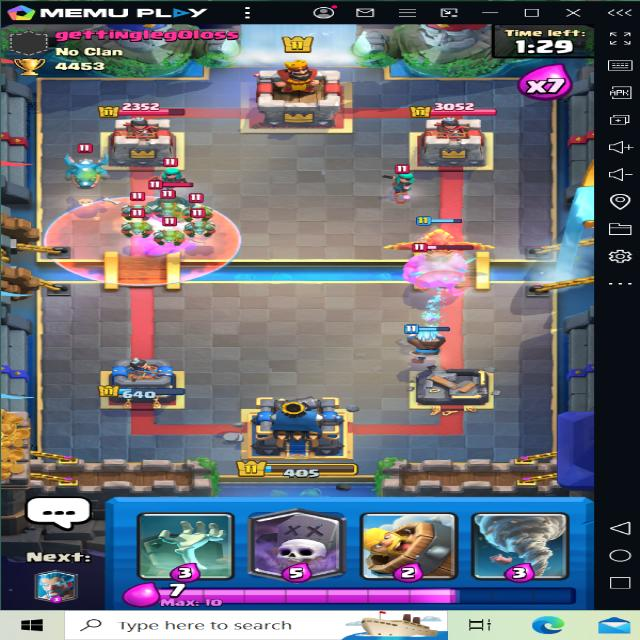Bowler: (402, 236, 476, 288)
Edragon: (56, 140, 121, 190)
Minions: (183, 194, 221, 220), (182, 216, 223, 237), (120, 196, 158, 216), (150, 220, 184, 242), (154, 194, 184, 218), (120, 213, 150, 236)
Rascalboy: (140, 184, 211, 220)
Rascalgirl: (383, 162, 423, 195), (159, 157, 195, 186)
